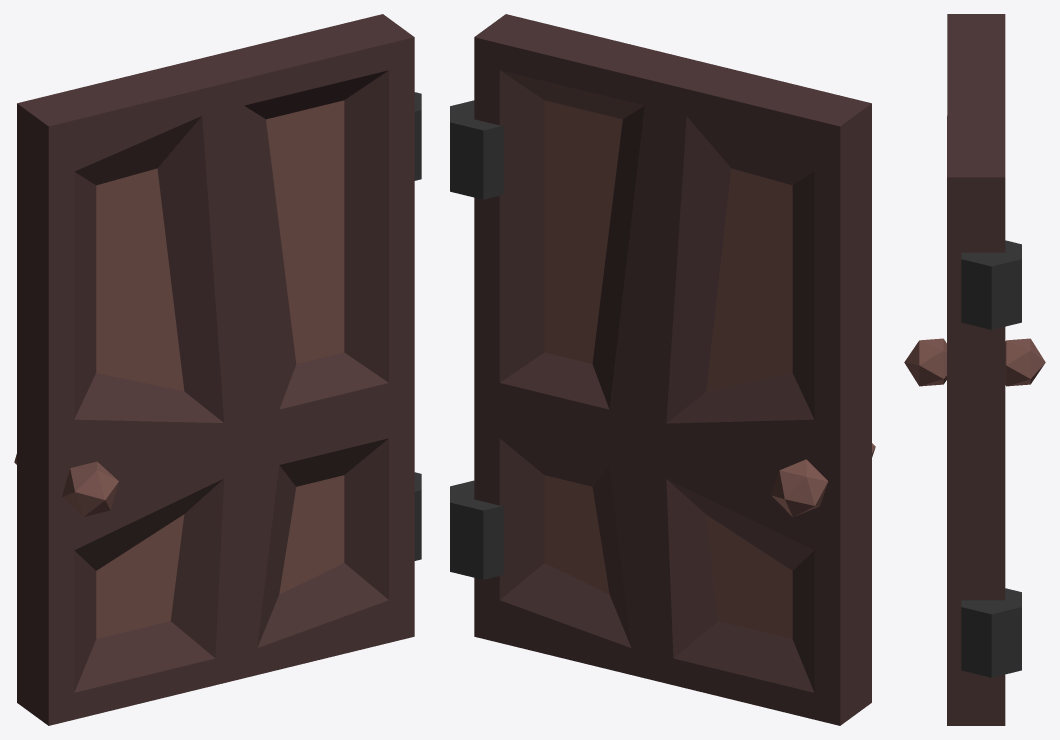
File: DarkRoseWoodDoorMediumInternal1.fbx
3 renders of one model, left to right at view 1: azimuth 30°, elevation 25°; view 2: azimuth 150°, elevation 25°; view 3: azimuth 270°, elevation 25°, orthographic. The views are drawn at different scales.
Visible parts, largest first — view 1: DarkRoseWoodDoorMediumInternal1; view 2: DarkRoseWoodDoorMediumInternal1; view 3: DarkRoseWoodDoorMediumInternal1.
Boxes of the visible parts, x1,y1,x2,y2 form: DarkRoseWoodDoorMediumInternal1: (14, 14, 421, 725); DarkRoseWoodDoorMediumInternal1: (450, 14, 875, 725); DarkRoseWoodDoorMediumInternal1: (904, 14, 1045, 725).
Size of the model in its own units: 250 by 361 by 84.43.
